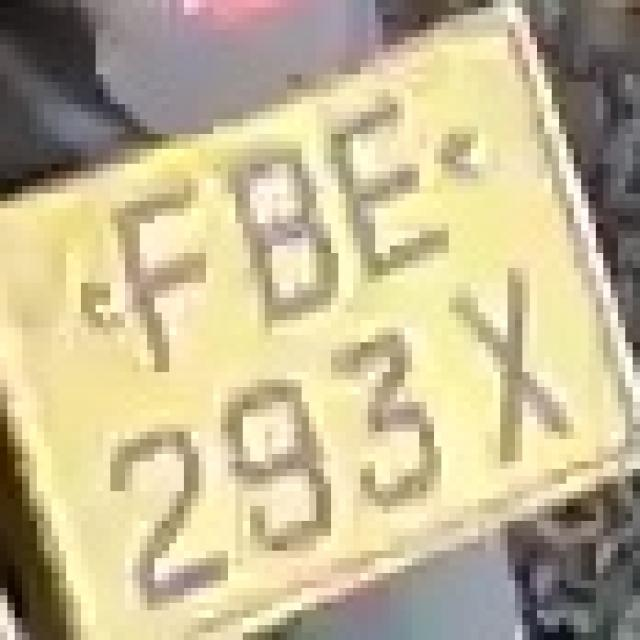2: (96, 372, 228, 633)
3: (302, 312, 456, 514)
9: (214, 365, 338, 588)
B: (206, 119, 368, 320)
E: (309, 74, 456, 298)
F: (88, 156, 214, 394)
X: (426, 260, 588, 454)
